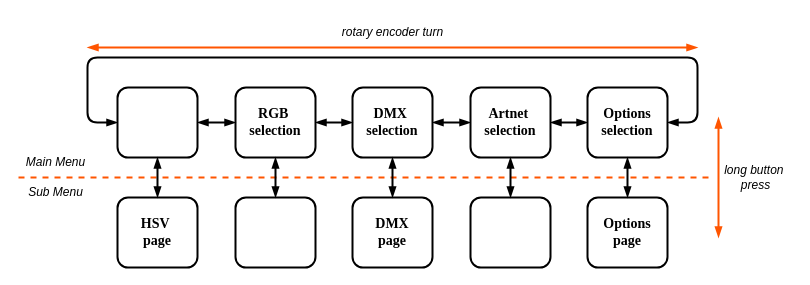
This 810x285 diagram has some shape labels left out. Here are the shapes that lost their labels. From the top down, the centre of each, then its label:
the point at 157,122: HSV selection
the point at 275,232: RGB page
the point at 510,232: Artnet page
